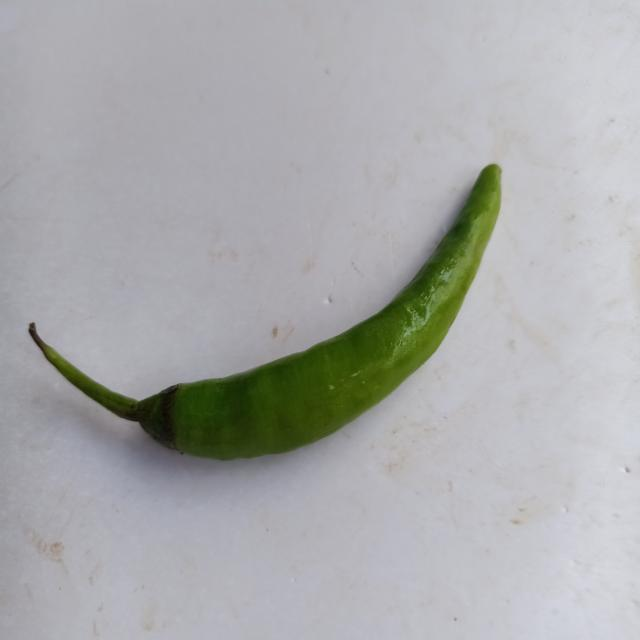Green Chilly: (28, 164, 502, 460)
